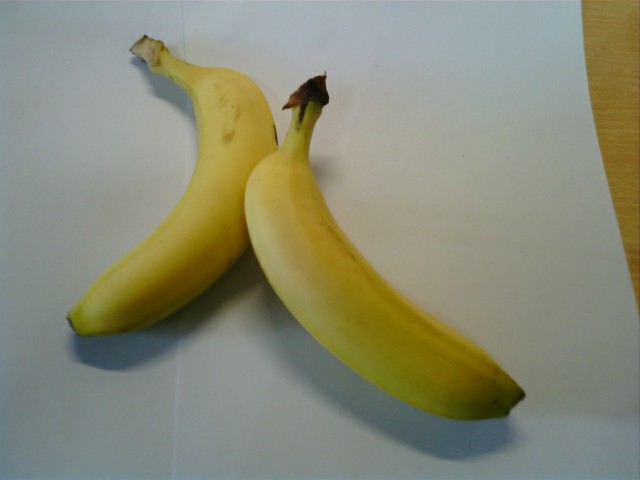fresh_banana: (242, 137, 527, 425), (65, 51, 275, 342)
